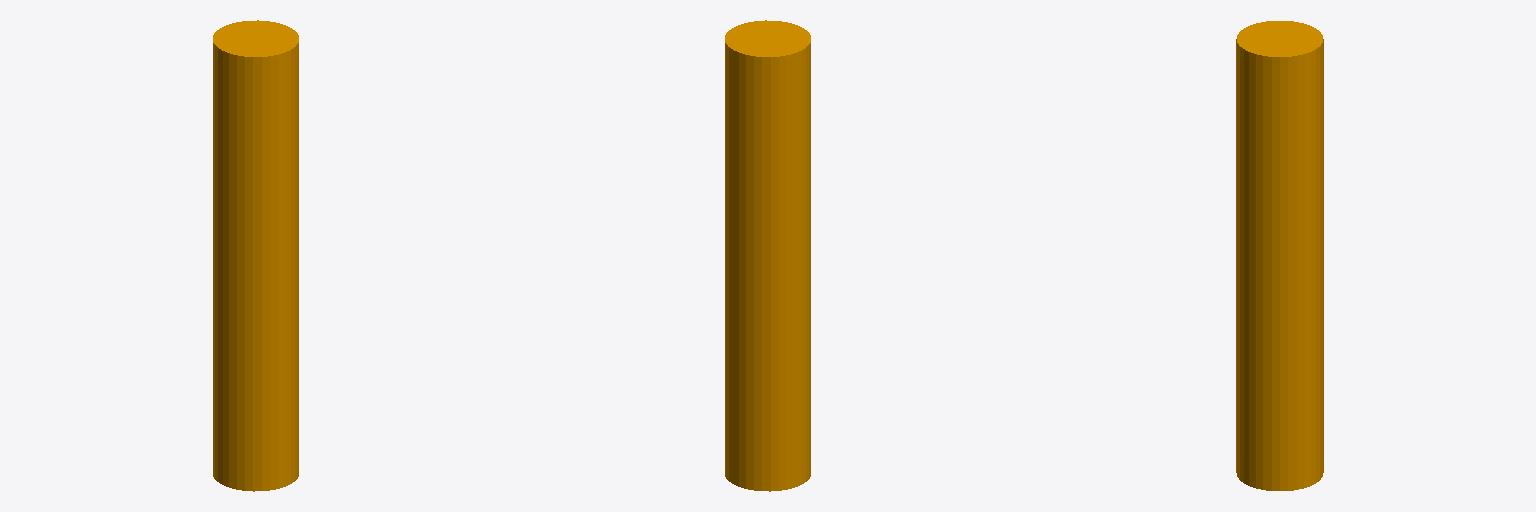
The robot description file, URDF, robot "object":
<robot name="object">
  <link name="object">
    <visual>
      <origin xyz="0 0 0" />
      <geometry>
        <cylinder radius="0.04" length="0.44" />
      </geometry>
    </visual>

    <collision>
      <origin xyz="0 0 0" />
      <geometry>
        <cylinder radius="0.04" length="0.44" />
      </geometry>
    </collision>

    <inertial>
      <mass value="0.05" />
      <inertia ixx="0.0001" ixy="0.0" ixz="0.0" iyy="0.0001" iyz="0.0" izz="0.0001" />
    </inertial>
  </link>
</robot>

--- Facts derived from the render (not from the file) ---
The picture shows the robot from 3 angles, left to right: view 1: azimuth 30°, elevation 25°; view 2: azimuth 150°, elevation 25°; view 3: azimuth 270°, elevation 25°; orthographic projection.
Model object with 1 links and 0 joints (none), rooted at object, posed all joints at 0.
Visible links, largest first — view 1: object; view 2: object; view 3: object.
Link boxes in pixels (x1,y1,x2,y2): object: (213,20,298,491); object: (725,20,810,491); object: (1236,21,1323,490).
Size in the robot's own frame: 0.08 by 0.08 by 0.44 metres.
Geometry: primitives only (box / cylinder / sphere), no mesh files.